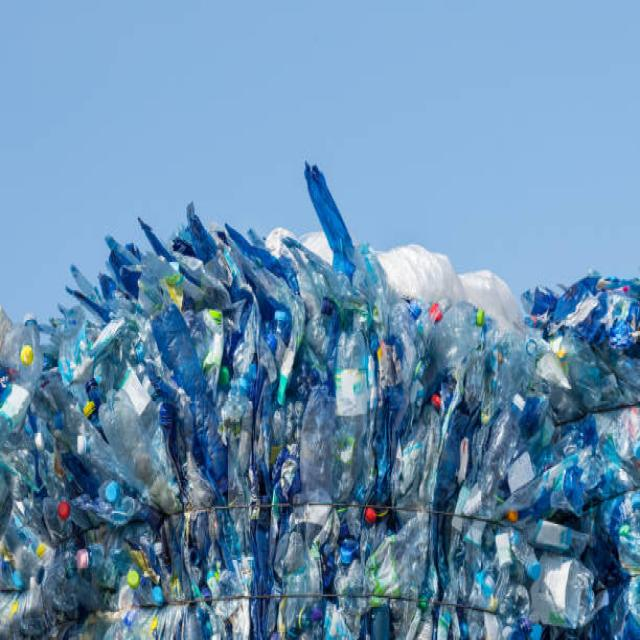plastic: (33, 283, 590, 622)
